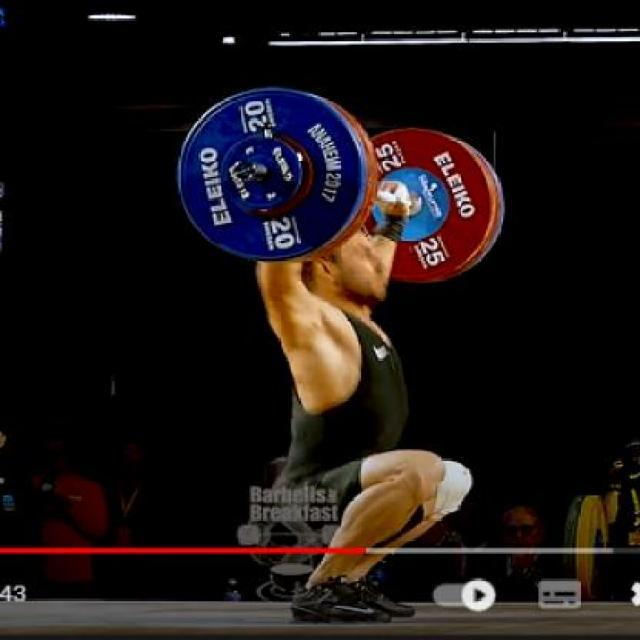Barbell: (230, 158, 262, 184)
